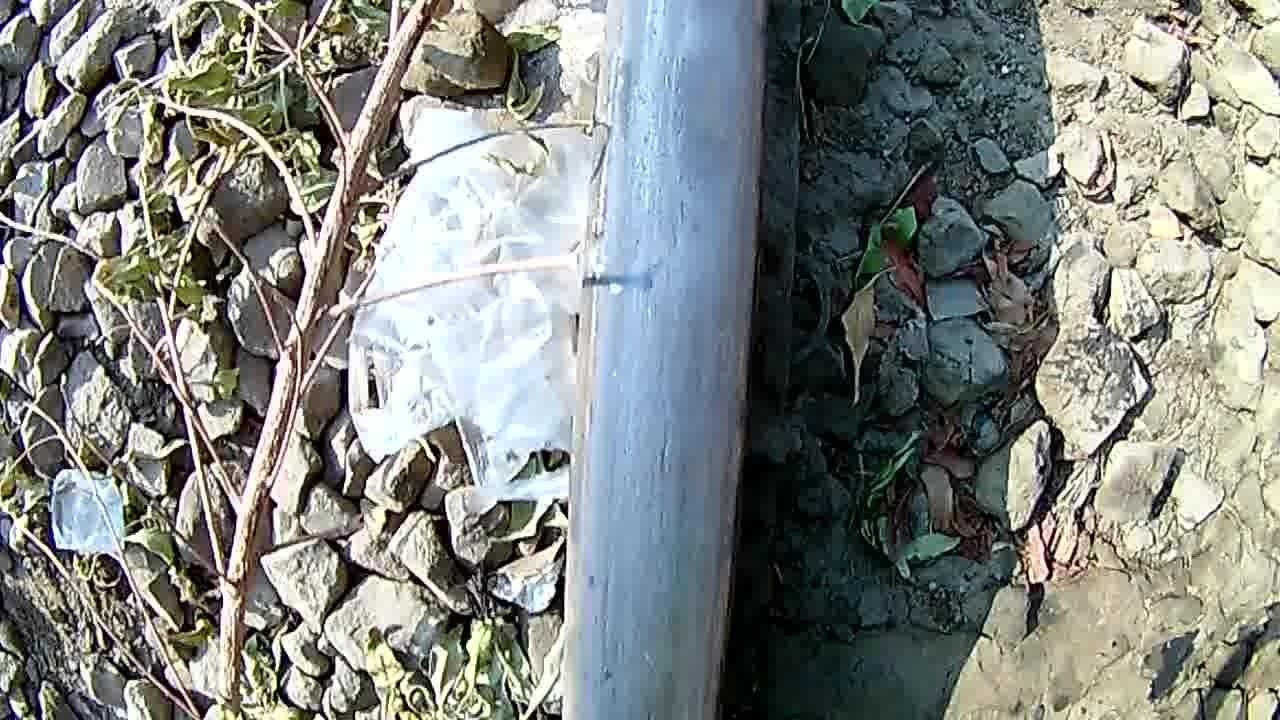bolt_missing: (605, 0, 757, 267)
